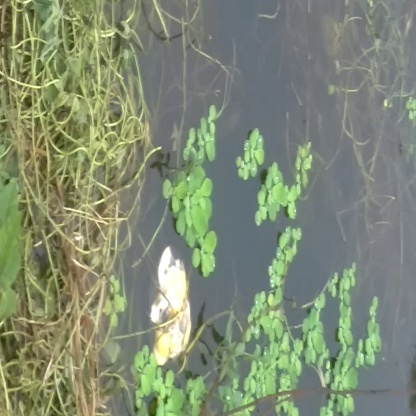leaf: (158, 162, 229, 266)
